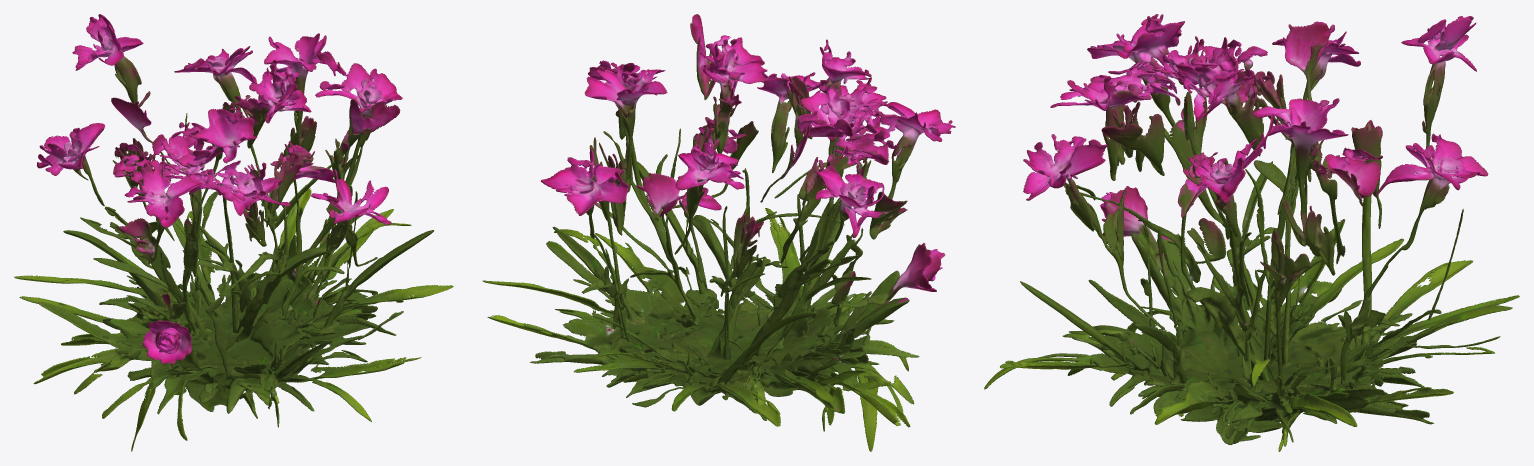
File: planta3.glb
The picture shows the model from 3 angles, left to right: view 1: azimuth 30°, elevation 25°; view 2: azimuth 150°, elevation 25°; view 3: azimuth 270°, elevation 25°; orthographic projection. The views are drawn at different scales.
Visible parts, largest first — view 1: tripo_node_7a3cdd52-c1b5-4bbc-b79e-7e118ddb9956; view 2: tripo_node_7a3cdd52-c1b5-4bbc-b79e-7e118ddb9956; view 3: tripo_node_7a3cdd52-c1b5-4bbc-b79e-7e118ddb9956.
Part boxes in pixels (x1=…): tripo_node_7a3cdd52-c1b5-4bbc-b79e-7e118ddb9956: x1=14, y1=14, x2=453, y2=451; tripo_node_7a3cdd52-c1b5-4bbc-b79e-7e118ddb9956: x1=482, y1=14, x2=955, y2=451; tripo_node_7a3cdd52-c1b5-4bbc-b79e-7e118ddb9956: x1=984, y1=14, x2=1519, y2=451.
Size of the model in its own units: 0.9908 by 0.8754 by 0.9998.
Materials: 1 (1 with a texture image).
